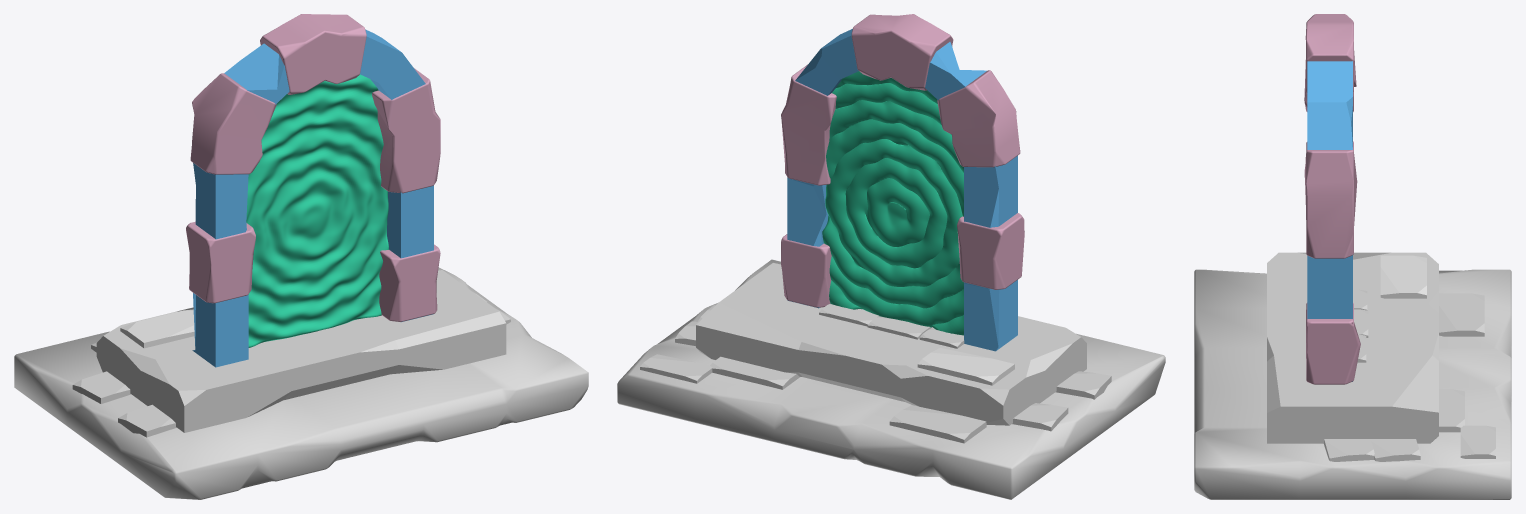
Rendered from Portal1-6.fbx.
3 renders of one model, left to right at view 1: azimuth 30°, elevation 25°; view 2: azimuth 150°, elevation 25°; view 3: azimuth 270°, elevation 25°, orthographic. The views are drawn at different scales.
Visible parts, largest first — view 1: Plane.004, Plane.003, Plane.001, Plane.002, Plane, Cube, Cube.009, Cube.011; view 2: Plane.004, Plane.003, Plane.002, Plane.001, Plane, Cube.004, Cube, Cube.005, Cube.006, Cube.009, Cube.011, Cube.002 (+1 smaller); view 3: Plane.004, Plane.002, Plane.001, Plane, Cube, Cube.004, Cube.006, Cube.005, Cube.007, Cube.008, Cube.002.
Boxes of the visible parts, bbox=[...] form: Plane.004: bbox=[14, 267, 588, 499]; Plane.003: bbox=[246, 74, 388, 347]; Plane.001: bbox=[186, 14, 440, 321]; Plane.002: bbox=[96, 268, 506, 432]; Plane: bbox=[192, 29, 433, 367]; Cube: bbox=[120, 309, 194, 348]; Cube.009: bbox=[118, 404, 176, 437]; Cube.011: bbox=[72, 371, 130, 403]; Plane.004: bbox=[617, 259, 1165, 499]; Plane.003: bbox=[822, 71, 963, 335]; Plane.002: bbox=[696, 263, 1086, 425]; Plane.001: bbox=[781, 14, 1024, 307]; Plane: bbox=[787, 29, 1017, 351]; Cube.004: bbox=[889, 405, 986, 443]; Cube: bbox=[917, 348, 1014, 385]; Cube.005: bbox=[710, 356, 799, 389]; Cube.006: bbox=[640, 354, 712, 383]; Cube.009: bbox=[1055, 371, 1111, 399]; Cube.011: bbox=[1012, 403, 1068, 431]; Cube.002: bbox=[867, 316, 932, 339]; Plane.004: bbox=[1194, 269, 1511, 499]; Plane.002: bbox=[1267, 252, 1438, 443]; Plane.001: bbox=[1304, 14, 1360, 384]; Plane: bbox=[1307, 61, 1352, 381]; Cube: bbox=[1380, 255, 1426, 298]; Cube.004: bbox=[1439, 293, 1484, 336]; Cube.006: bbox=[1460, 425, 1495, 458]; Cube.005: bbox=[1439, 389, 1464, 432]; Cube.007: bbox=[1324, 439, 1374, 461]; Cube.008: bbox=[1370, 439, 1420, 461]; Cube.002: bbox=[1354, 309, 1368, 337].
Bounding box in the file's own units: 545 × 482 × 369.
